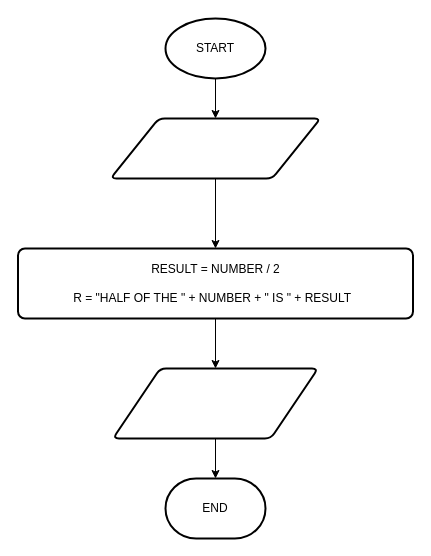
Some shapes in this 431 by 556 pixel diagram are drawn without their labels. Here are the shapes that lost their labels. From the top down, the box of each, then its label:
(109, 117, 321, 179): READ NUMBER
(112, 367, 318, 439): PRINT R
